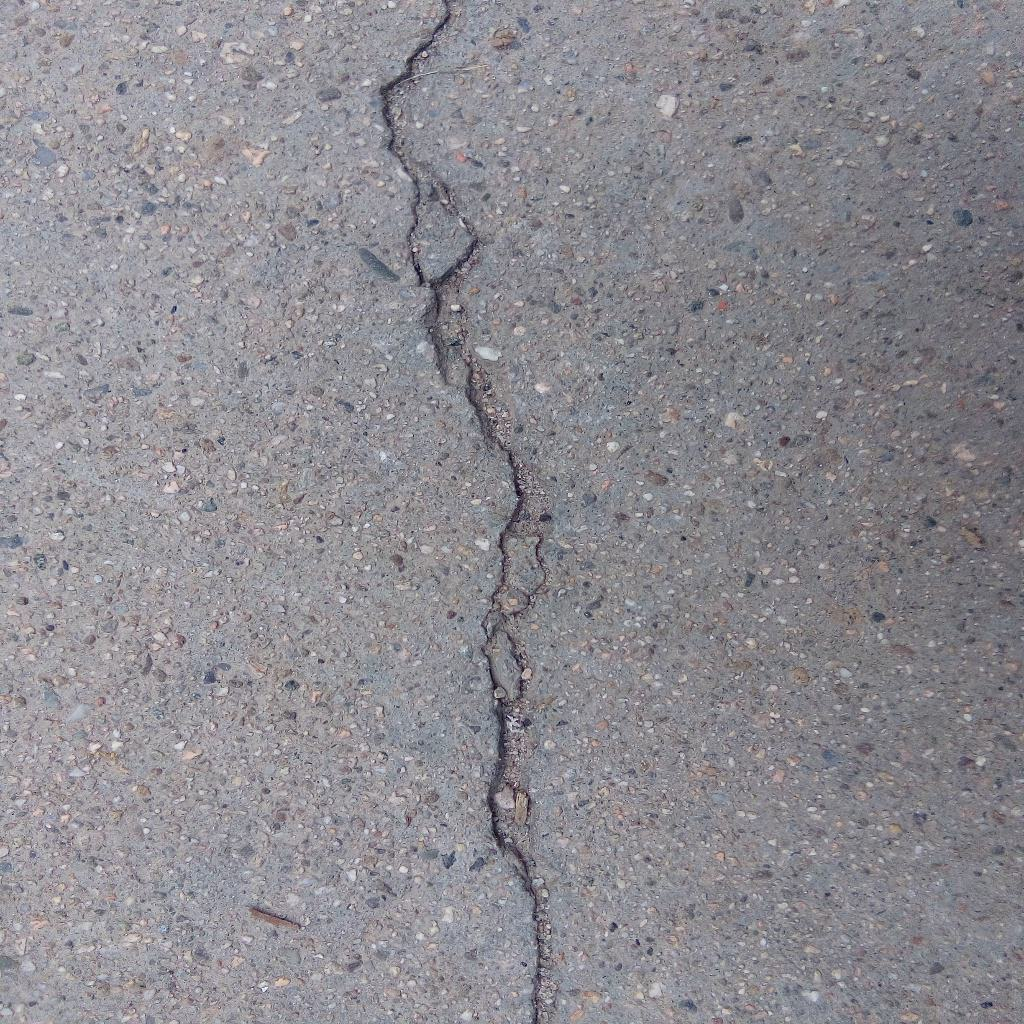Crack: (374, 1, 553, 1024)
